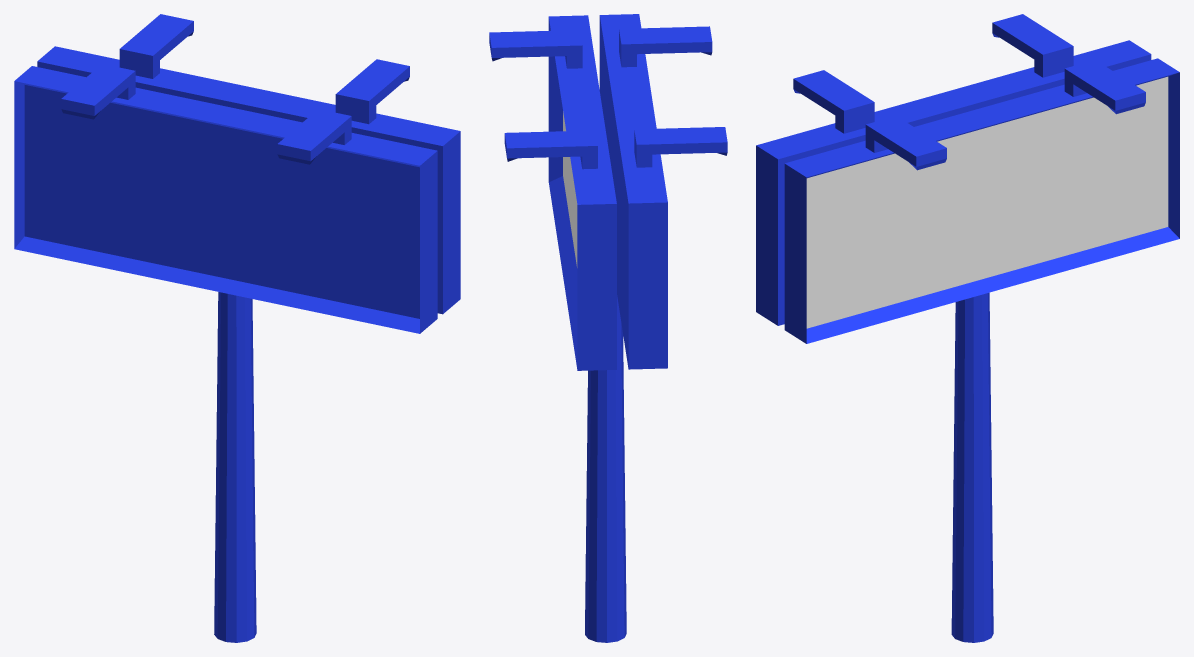
Rendered from Billboard.glb.
3 renders of one model, left to right at view 1: azimuth 30°, elevation 25°; view 2: azimuth 150°, elevation 25°; view 3: azimuth 270°, elevation 25°, orthographic.
Parts seen in each view (by area): view 1: Circle.012, Circle.013, Circle.011, Cube.119, Cube.120, Cube, Cube.121; view 2: Circle.011, Circle.012, Circle.013, Cube, Cube.121, Cube.119, Cube.120; view 3: Circle.011, Circle.013, Circle.012, Cube.121, Cube, Cube.119, Cube.120.
Part boxes in pixels (<box>): Circle.012: <box>14,66,437,333</box>; Circle.013: <box>214,292,256,642</box>; Circle.011: <box>37,46,460,314</box>; Cube.119: <box>335,59,409,124</box>; Cube.120: <box>119,14,193,78</box>; Cube: <box>61,64,135,119</box>; Cube.121: <box>277,109,351,164</box>; Circle.011: <box>548,15,616,370</box>; Circle.012: <box>599,14,667,369</box>; Circle.013: <box>585,295,626,642</box>; Cube: <box>634,127,727,167</box>; Cube.121: <box>619,26,712,67</box>; Cube.119: <box>489,30,582,68</box>; Cube.120: <box>504,130,597,169</box>; Circle.011: <box>784,58,1179,343</box>; Circle.013: <box>951,292,993,642</box>; Circle.012: <box>756,40,1151,325</box>; Cube.121: <box>793,70,874,133</box>; Cube: <box>992,14,1073,77</box>; Cube.119: <box>865,116,946,170</box>; Cube.120: <box>1064,60,1145,114</box>.
Bounding box in the file's own units: 7.43 × 13.3 × 9.32.
3 materials, 1 textured.
